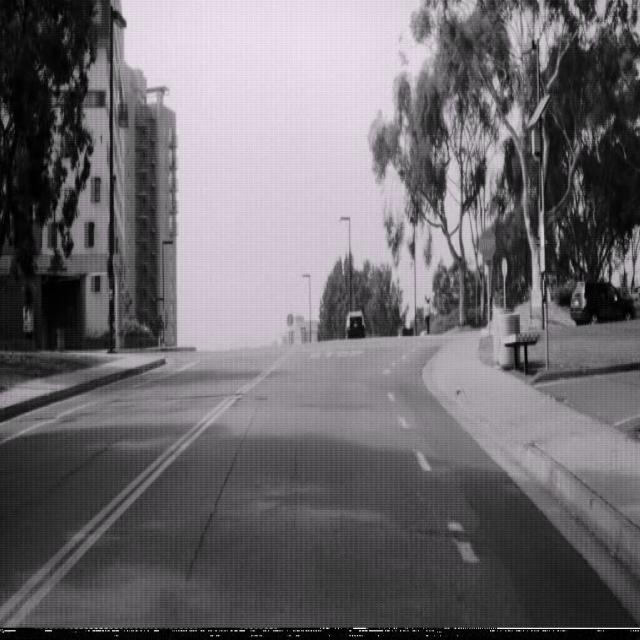stop_sign: (478, 226, 496, 261)
